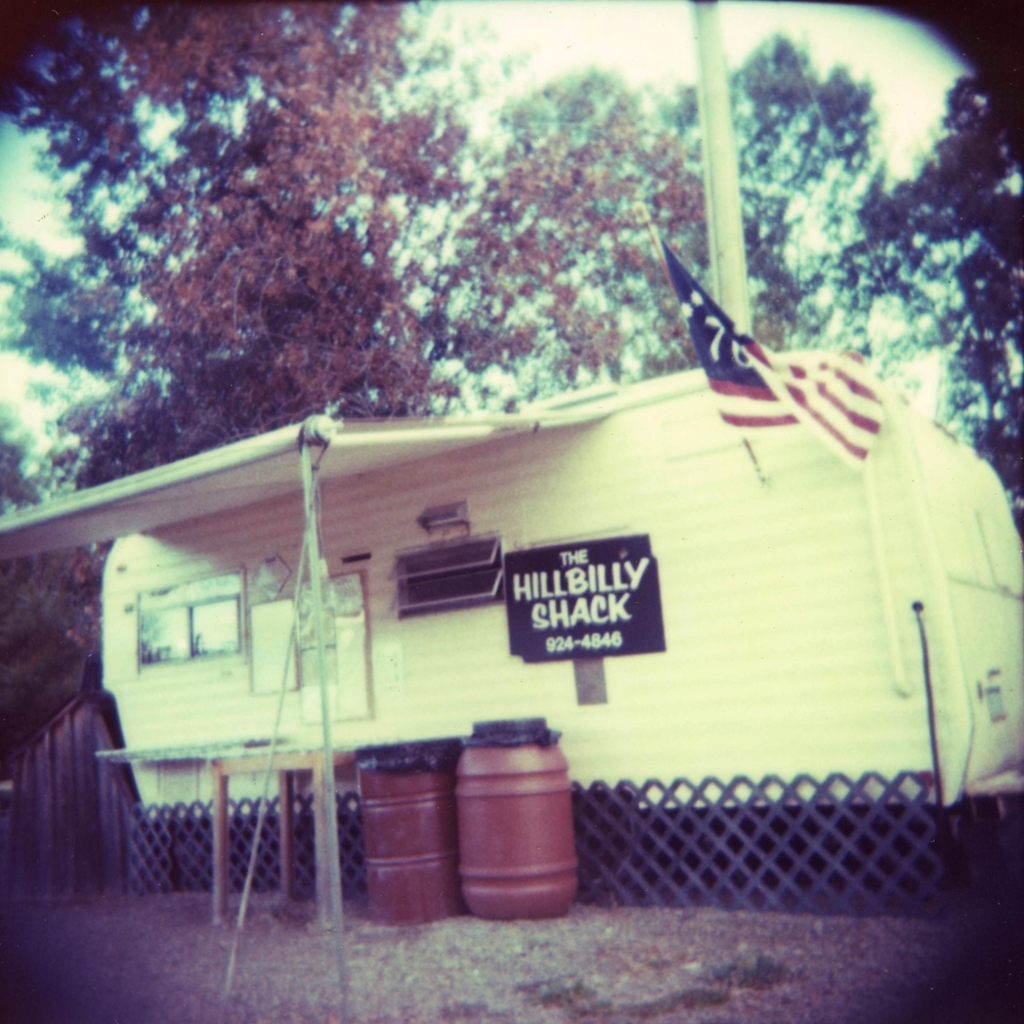Tree: (0, 0, 1022, 778)
